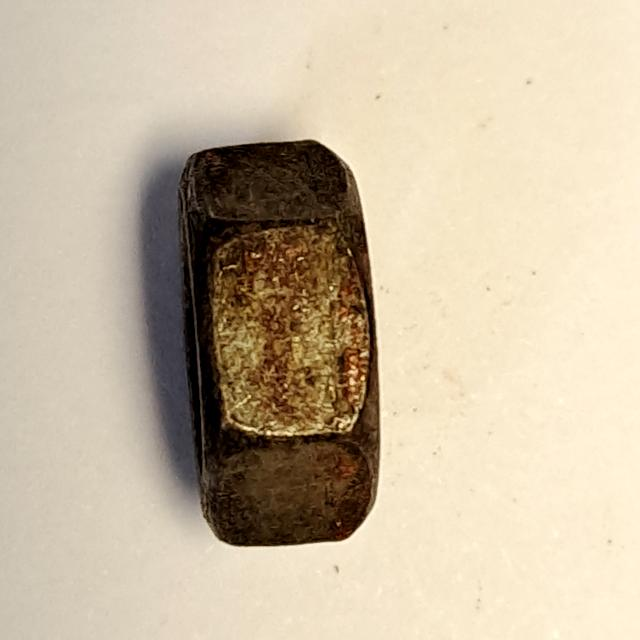Side_Rust: (169, 124, 389, 558)
